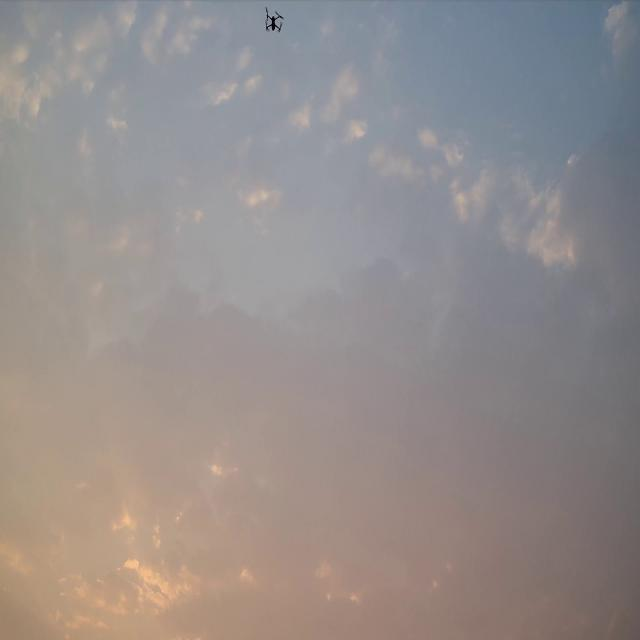UAV: (264, 6, 284, 33)
